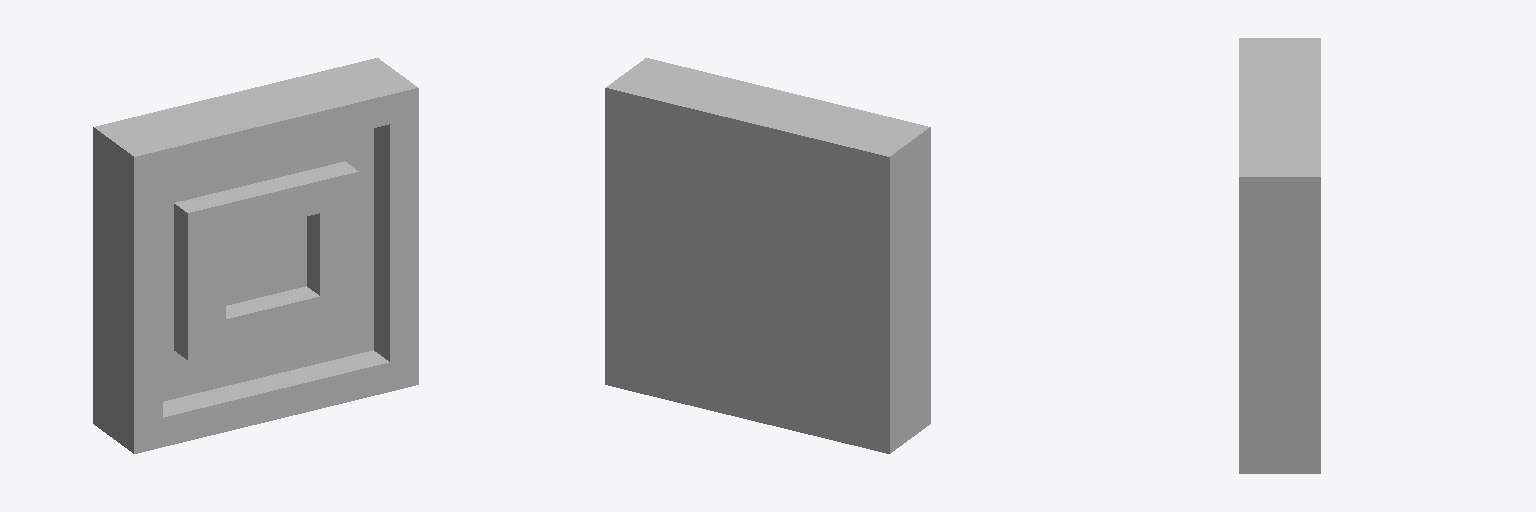
File: block_ㅁ.obj
3 renders of one model, left to right at view 1: azimuth 30°, elevation 25°; view 2: azimuth 150°, elevation 25°; view 3: azimuth 270°, elevation 25°, orthographic.
Parts seen in each view (by area): view 1: obj_0; view 2: obj_0; view 3: obj_0.
Boxes of the visible parts, x1=… form: obj_0: x1=93, y1=58, x2=418, y2=453; obj_0: x1=605, y1=58, x2=930, y2=453; obj_0: x1=1239, y1=38, x2=1320, y2=473.
Bounding box in the file's own units: 20 × 20 × 5.